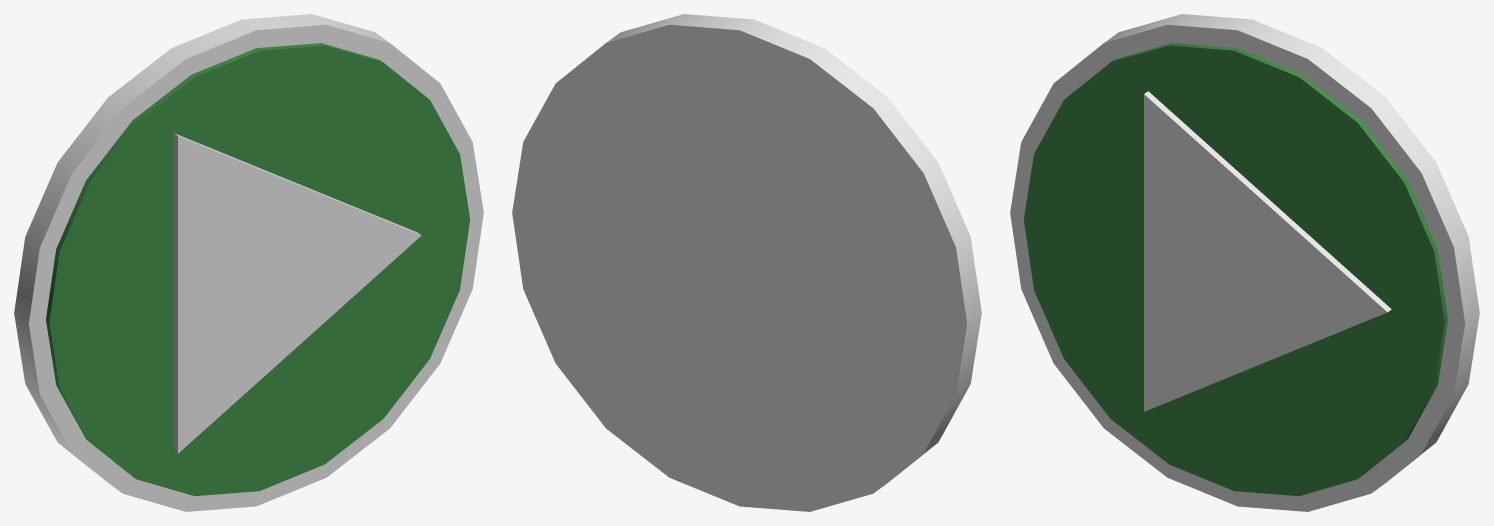
Rendered from EspoTour.fbx.
The picture shows the model from 3 angles, left to right: view 1: azimuth 30°, elevation 25°; view 2: azimuth 150°, elevation 25°; view 3: azimuth 330°, elevation 25°; orthographic projection.
Parts seen in each view (by area): view 1: pCylinder1, pCube2, pCylinder2; view 2: pCylinder2; view 3: pCylinder1, pCube2, pCylinder2.
Part boxes in pixels (x1,y1,x2,y2): pCylinder1: [46, 43, 470, 496]; pCube2: [174, 133, 421, 453]; pCylinder2: [14, 14, 483, 511]; pCylinder2: [512, 14, 981, 511]; pCylinder1: [1023, 43, 1447, 496]; pCube2: [1144, 91, 1391, 411]; pCylinder2: [1010, 14, 1479, 511].
Size of the model in its own units: 0.8753 by 0.8753 by 0.0745.
